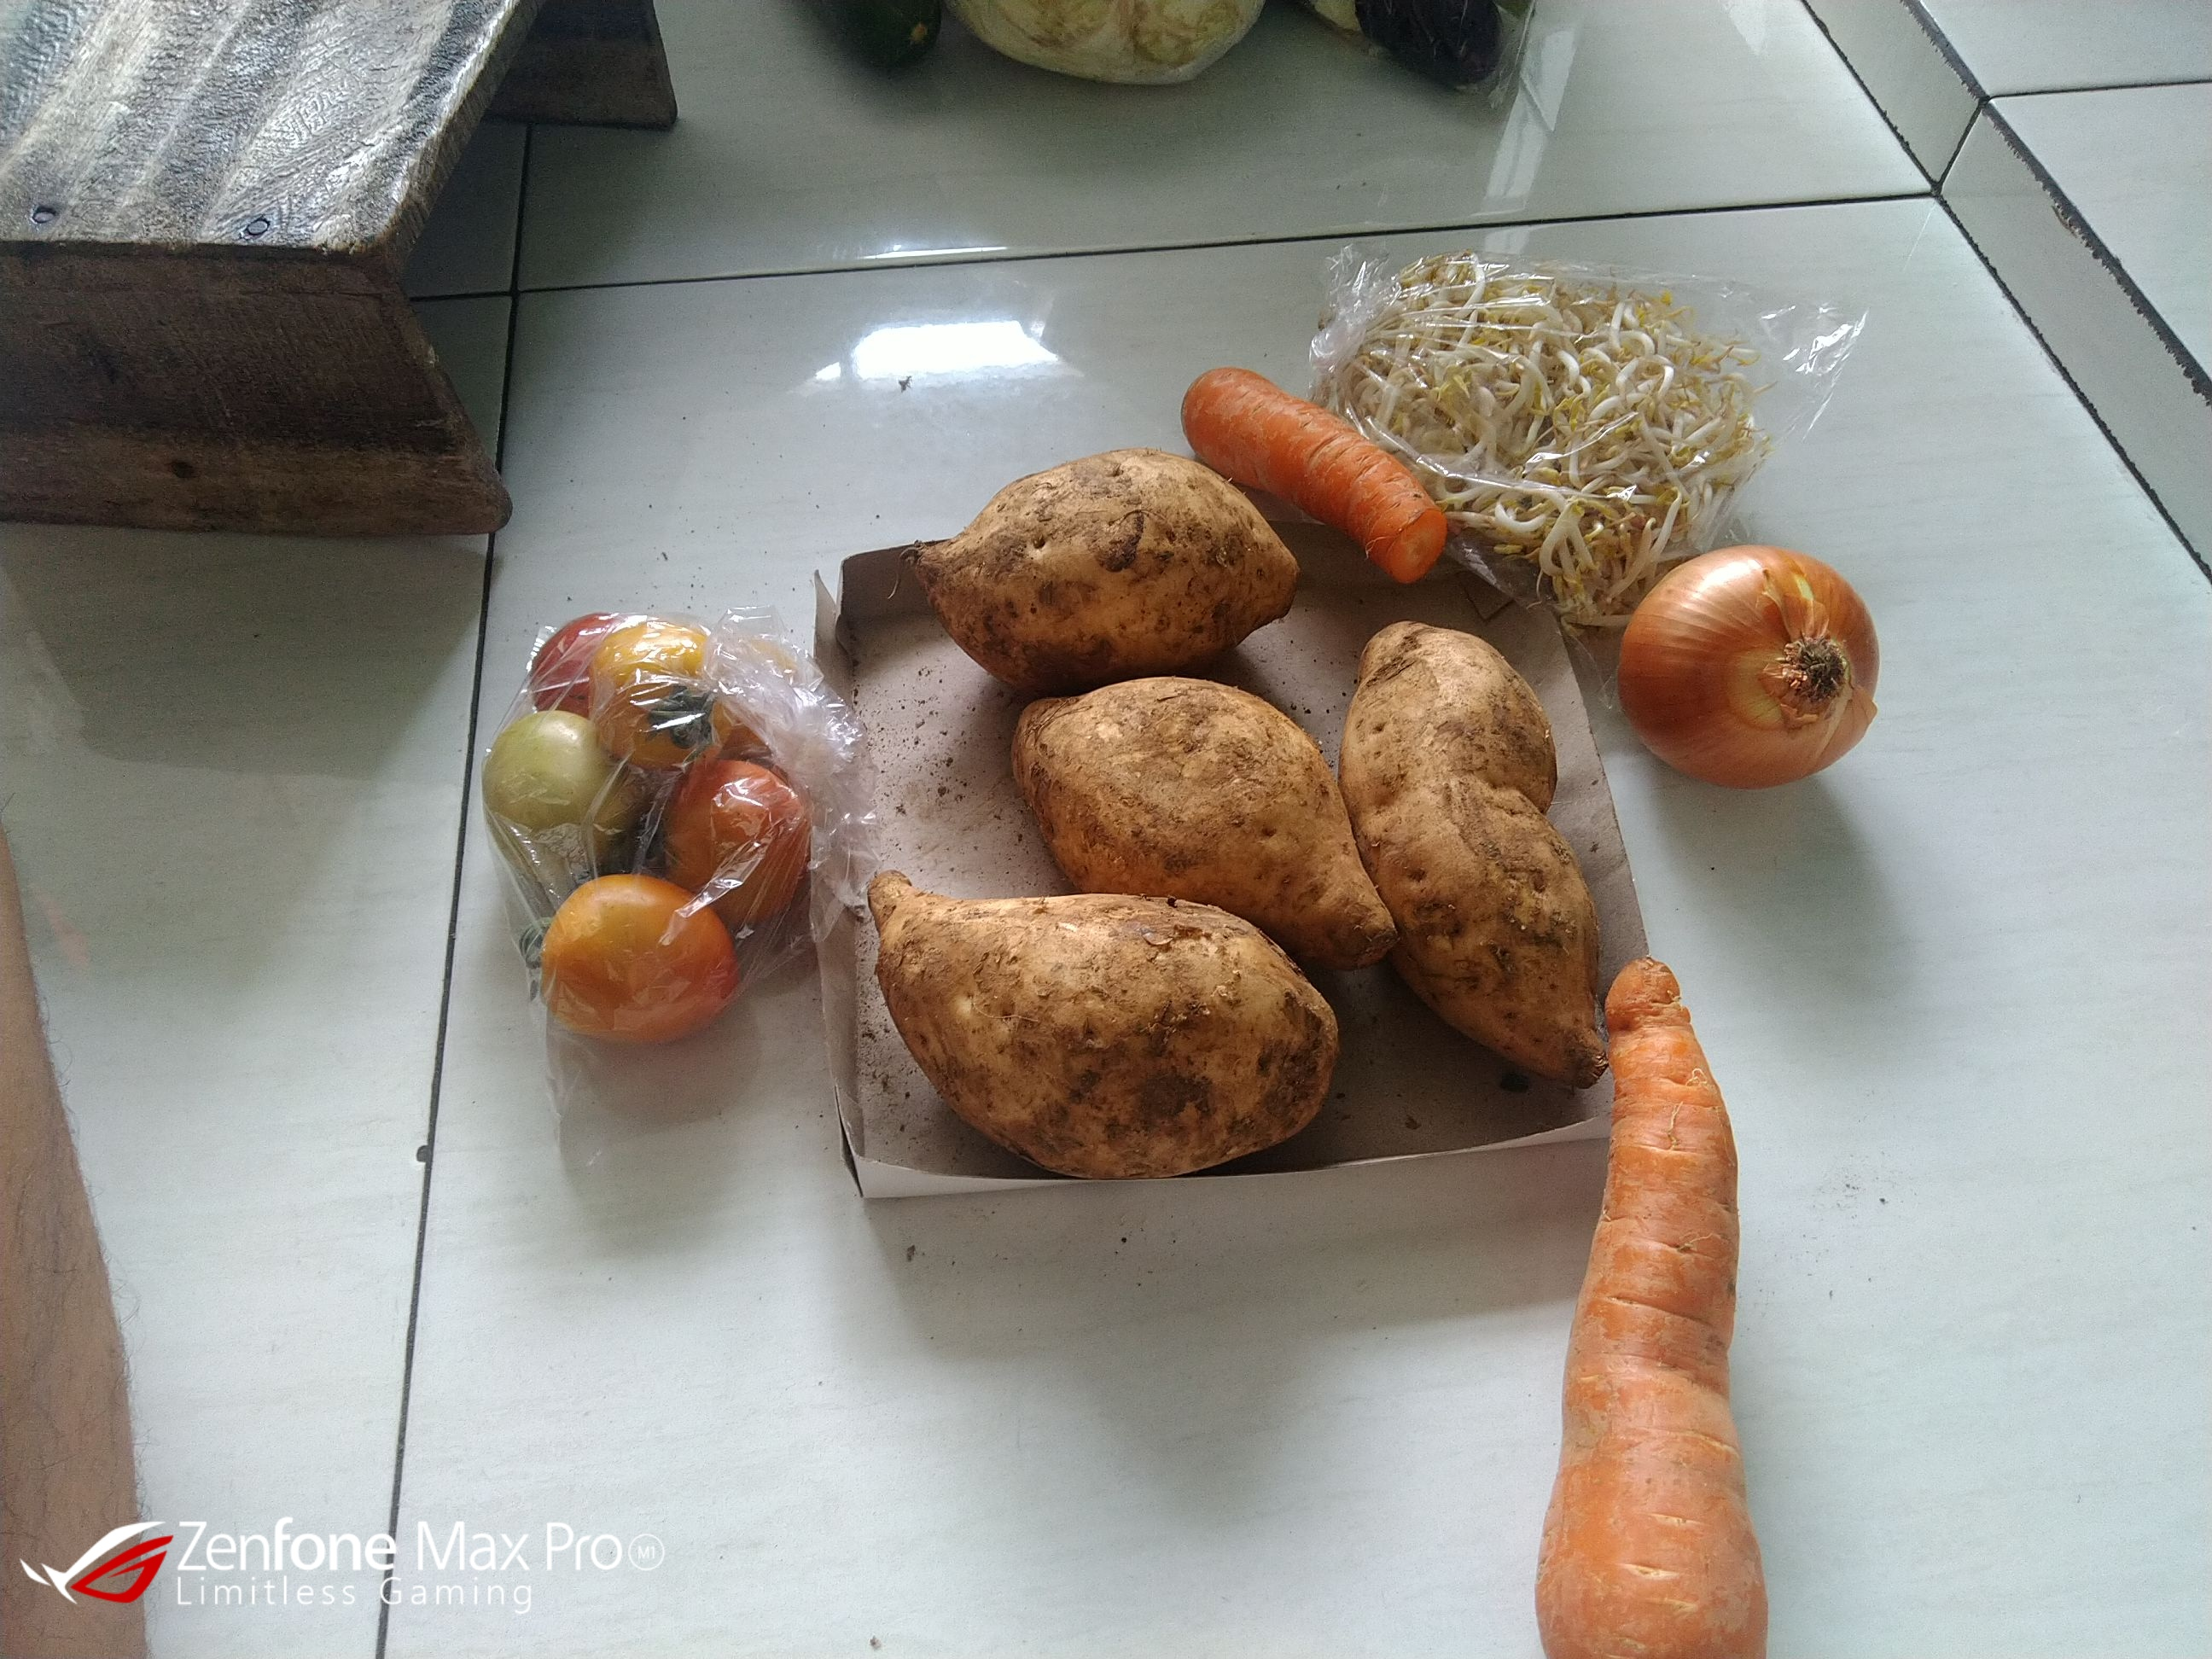ubi kuning: (841, 864, 1343, 1180), (995, 674, 1423, 978), (1343, 615, 1622, 1079), (894, 455, 1315, 673)
